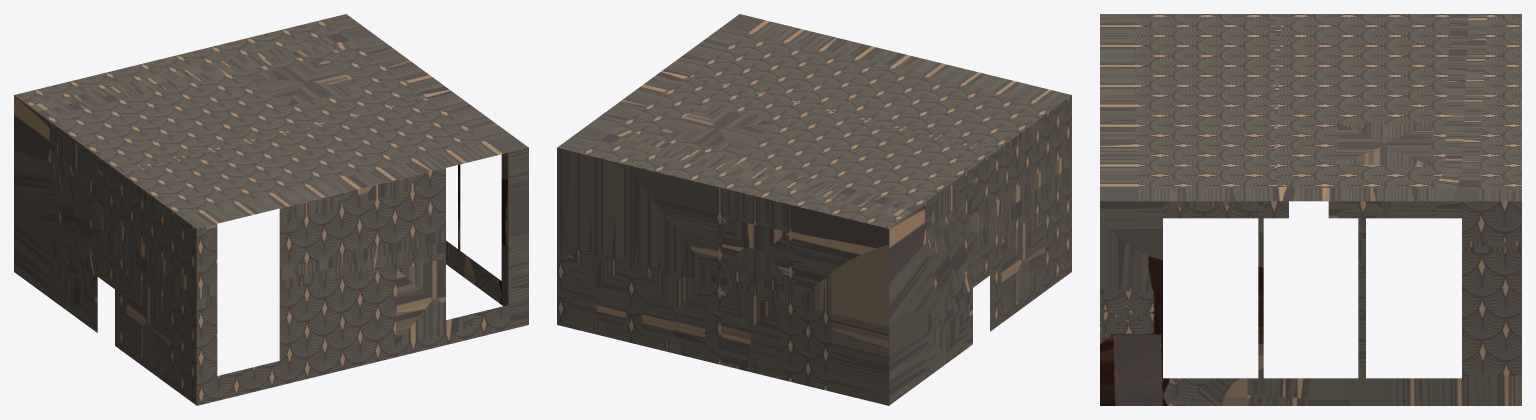
Rendered from Celling_Walls 1.fbx.
3 renders of one model, left to right at view 1: azimuth 30°, elevation 25°; view 2: azimuth 150°, elevation 25°; view 3: azimuth 270°, elevation 25°, orthographic. The views are drawn at different scales.
Parts seen in each view (by area): view 1: SK_Celling, SK_Wall_Side02wCuts, SK_Wall_Front, SK_Window_Back; view 2: SK_Celling, SK_Wall_wNoWindows, SK_Wall_Front; view 3: SK_Celling, SK_Window_Back, SK_Wall_Front.
Boxes of the visible parts, x1,y1,x2,y2 form: SK_Celling: (14, 14, 528, 228); SK_Wall_Side02wCuts: (196, 148, 528, 405); SK_Wall_Front: (14, 95, 196, 405); SK_Window_Back: (446, 153, 508, 306); SK_Celling: (557, 14, 1071, 228); SK_Wall_wNoWindows: (557, 148, 889, 405); SK_Wall_Front: (889, 95, 1071, 405); SK_Celling: (1100, 14, 1521, 201); SK_Window_Back: (1100, 201, 1521, 405); SK_Wall_Front: (1163, 201, 1461, 218).
Bounding box in the file's own units: 1600 × 816 × 1524.
